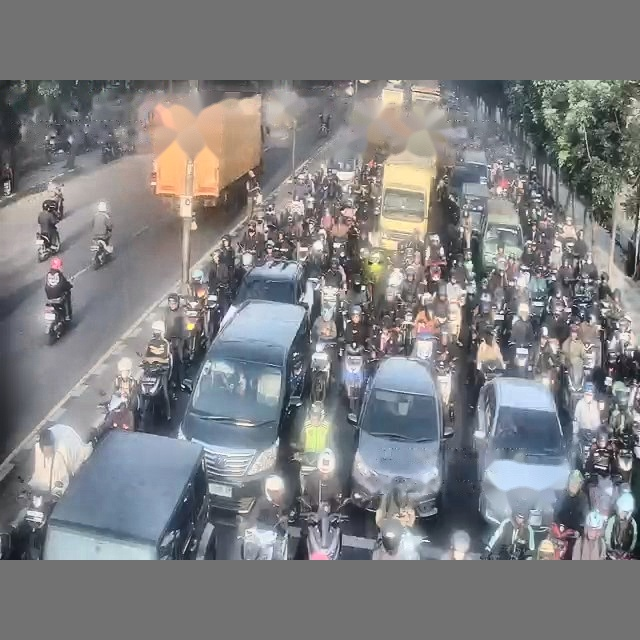Mobil: (178, 300, 310, 514), (43, 430, 215, 559), (348, 356, 453, 517), (474, 377, 570, 525), (220, 261, 314, 326), (327, 153, 359, 185)
Motor: (19, 483, 61, 559), (139, 362, 171, 427), (98, 393, 136, 432), (343, 343, 364, 413), (310, 340, 333, 402), (185, 298, 206, 363), (44, 298, 68, 344), (36, 232, 59, 262), (90, 238, 111, 269), (513, 343, 531, 377)
Truk: (152, 92, 264, 209), (378, 148, 436, 251)
